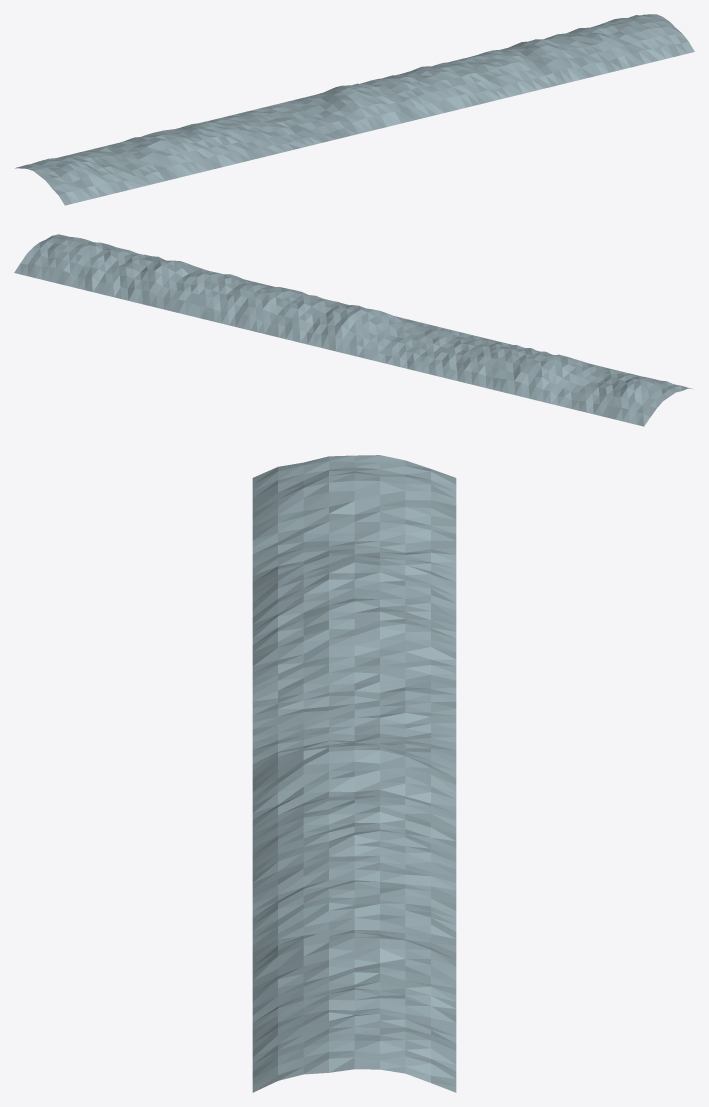
The model's file is ridge_mid.glb.
The picture shows the model from 3 angles, top to bottom: view 1: azimuth 30°, elevation 25°; view 2: azimuth 150°, elevation 25°; view 3: azimuth 270°, elevation 25°; orthographic projection. The views are drawn at different scales.
Visible parts, largest first — view 1: ridge_mid; view 2: ridge_mid; view 3: ridge_mid.
Part boxes in pixels (bbox=[...]): ridge_mid: bbox=[15, 14, 694, 205]; ridge_mid: bbox=[14, 234, 693, 426]; ridge_mid: bbox=[252, 455, 456, 1092].
Size of the model in its own units: 1500 by 41.22 by 210.
